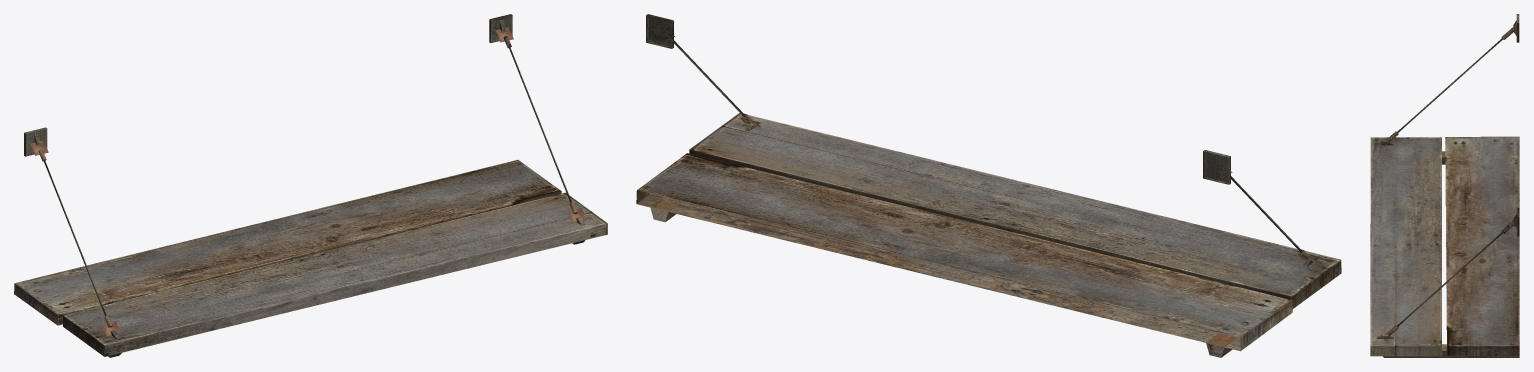
File: shelf_01.FBX
3 views of the same model, side by side, from view 1: azimuth 30°, elevation 25°; view 2: azimuth 150°, elevation 25°; view 3: azimuth 270°, elevation 25° (orthographic). The views are drawn at different scales.
Visible parts, largest first — view 1: shelf_s, armature_s; view 2: shelf_s; view 3: shelf_s, armature_s.
Boxes of the visible parts, left/top/right/bottom form: shelf_s: left=14, top=14, right=607, bottom=357; armature_s: left=30, top=27, right=585, bottom=336; shelf_s: left=636, top=14, right=1341, bottom=357; shelf_s: left=1370, top=14, right=1519, bottom=357; armature_s: left=1384, top=27, right=1515, bottom=340.
Size of the model in its own units: 1.57 by 0.4991 by 0.47.
